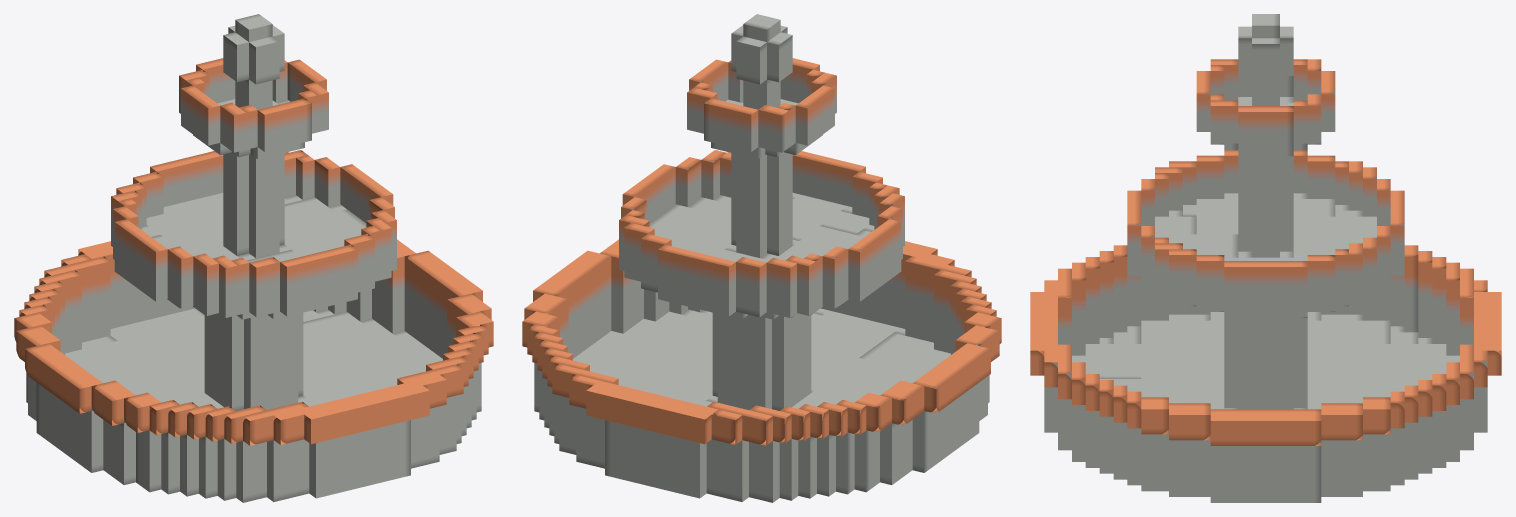
The model's file is Fuente.obj.
The picture shows the model from 3 angles, left to right: view 1: azimuth 30°, elevation 25°; view 2: azimuth 150°, elevation 25°; view 3: azimuth 270°, elevation 25°; orthographic projection.
Visible parts, largest first — view 1: Content; view 2: Content; view 3: Content.
Part boxes in pixels (left/top/right/bottom): Content: left=14, top=14, right=493, bottom=502; Content: left=522, top=14, right=1001, bottom=502; Content: left=1030, top=14, right=1501, bottom=502.
Size of the model in its own units: 3.06 by 2.79 by 3.06.
